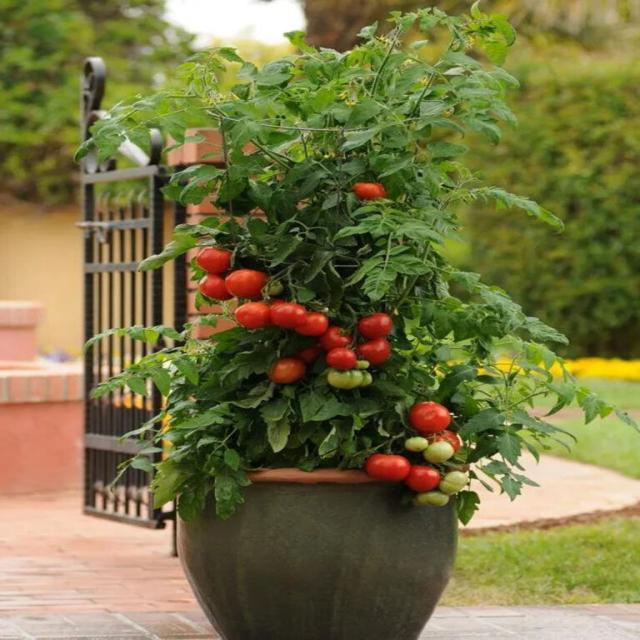level 2: (325, 365, 362, 389), (423, 442, 454, 462), (440, 472, 468, 493), (418, 489, 450, 507), (404, 436, 428, 452), (351, 370, 373, 386), (352, 360, 370, 370)
level 5: (265, 358, 306, 385), (294, 339, 327, 361)
level 6: (226, 269, 270, 299), (367, 453, 409, 481), (411, 403, 451, 432), (196, 246, 232, 274), (405, 464, 440, 492), (200, 273, 236, 299), (235, 302, 271, 328), (272, 303, 308, 328), (355, 338, 392, 362), (425, 429, 460, 453), (294, 312, 330, 335), (325, 346, 358, 371), (358, 313, 392, 336), (319, 327, 354, 349), (353, 182, 386, 204)
